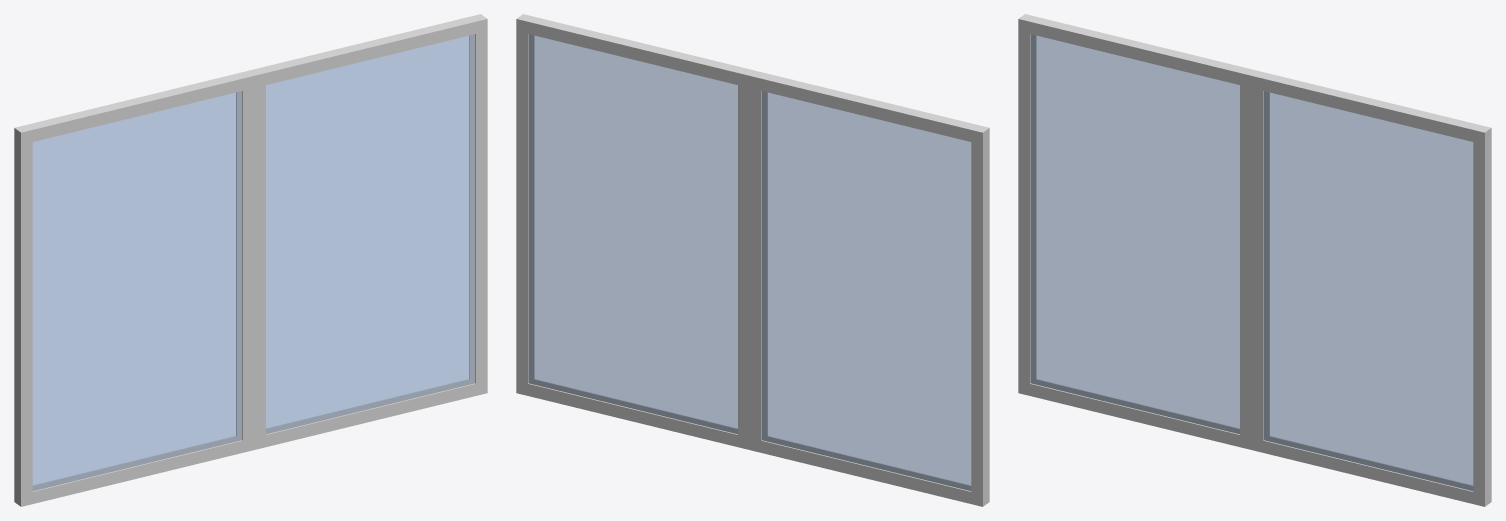
The model's file is Doors.fbx.
3 views of the same model, side by side, from view 1: azimuth 30°, elevation 25°; view 2: azimuth 150°, elevation 25°; view 3: azimuth 330°, elevation 25° (orthographic).
Parts seen in each view (by area): view 1: Left Door, Right Door; view 2: Left Door, Right Door; view 3: Right Door, Left Door.
Boxes of the visible parts, <box> form: Left Door: <box>14,71,254,506</box>; Right Door: <box>248,14,487,449</box>; Left Door: <box>749,71,989,506</box>; Right Door: <box>516,14,755,449</box>; Right Door: <box>1251,71,1491,506</box>; Left Door: <box>1018,14,1257,449</box>.
Bounding box in the file's own units: 800 × 613 × 20.
